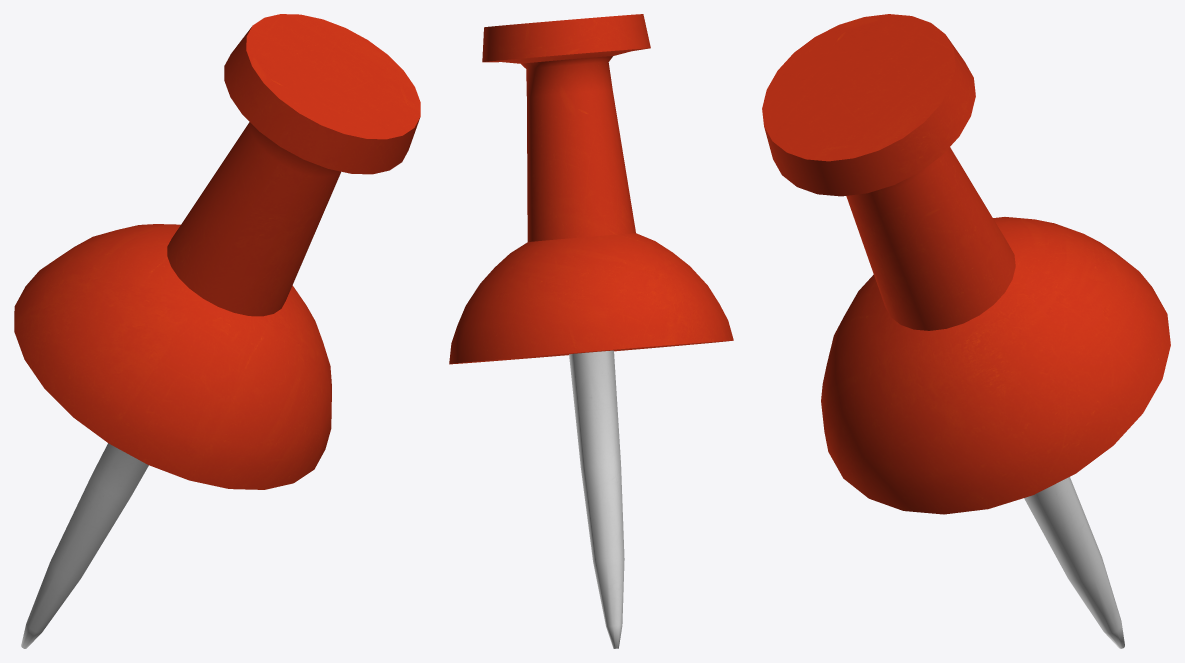
The model's file is pin.glb.
3 renders of one model, left to right at view 1: azimuth 30°, elevation 25°; view 2: azimuth 150°, elevation 25°; view 3: azimuth 270°, elevation 25°, orthographic. The views are drawn at different scales.
Visible parts, largest first — view 1: Pin2; view 2: Pin2; view 3: Pin2.
Part boxes in pixels (x1,y1,x2,y2): Pin2: [14, 14, 420, 648]; Pin2: [449, 14, 733, 648]; Pin2: [762, 14, 1170, 648].
Size of the model in its own units: 0.0108 by 0.0211 by 0.0112.
Materials: 1 (1 with a texture image).
